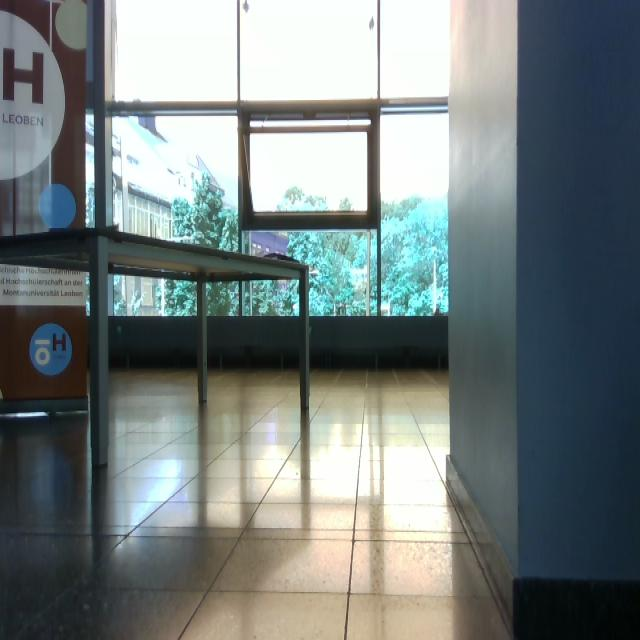door: (2, 1, 639, 638)
light bulb: (39, 183, 77, 231), (55, 1, 88, 52), (242, 1, 250, 13), (369, 16, 375, 32)
tiled floor: (1, 365, 514, 638)
window: (99, 1, 452, 320)
